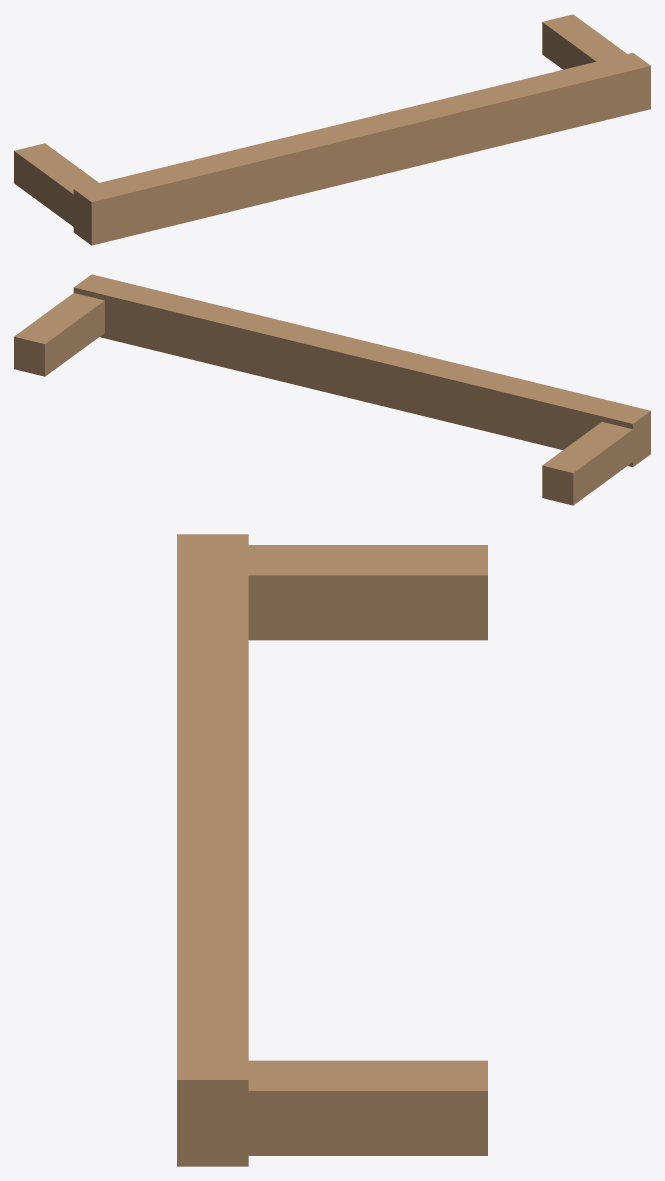
File: hardware_handle_13.obj
3 renders of one model, top to bottom at view 1: azimuth 30°, elevation 25°; view 2: azimuth 150°, elevation 25°; view 3: azimuth 270°, elevation 25°, orthographic. The views are drawn at different scales.
Parts seen in each view (by area): view 1: hardware_handle_13; view 2: hardware_handle_13; view 3: hardware_handle_13.
Part boxes in pixels (x1,y1,x2,y2): hardware_handle_13: (14, 14, 650, 245); hardware_handle_13: (14, 274, 650, 505); hardware_handle_13: (177, 534, 487, 1166).
Size of the model in its own units: 171 by 12.7 by 41.28.
